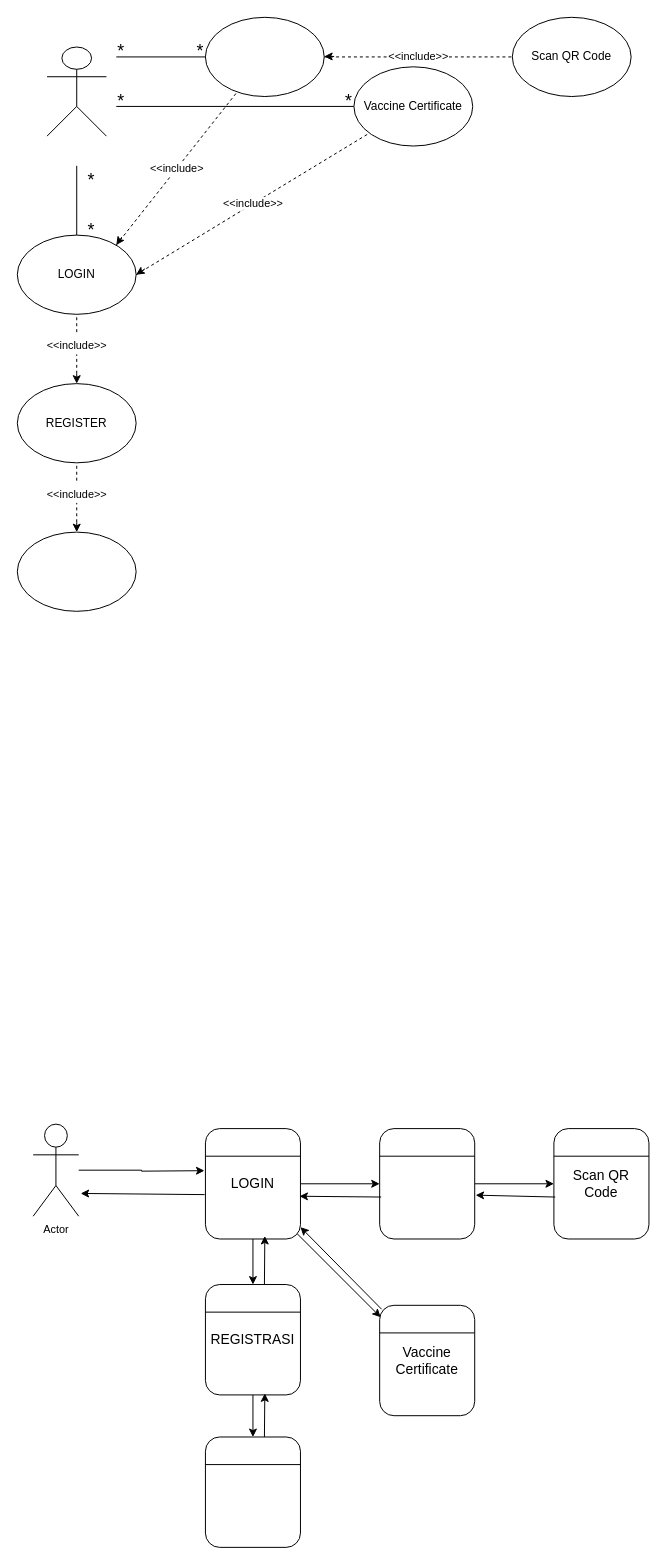
Image size: 667x1565. Some labels were removed from this diagram. The shapes that lost their labels are listed below. From the top down, each one's centre as x and y in pixels, then its label:
the point at 264,56: Entering a public space?
the point at 76,91: User
the point at 76,571: VALIDATION
the point at 427,1183: Entering a public space
the point at 252,1491: VALIDASI DATA
